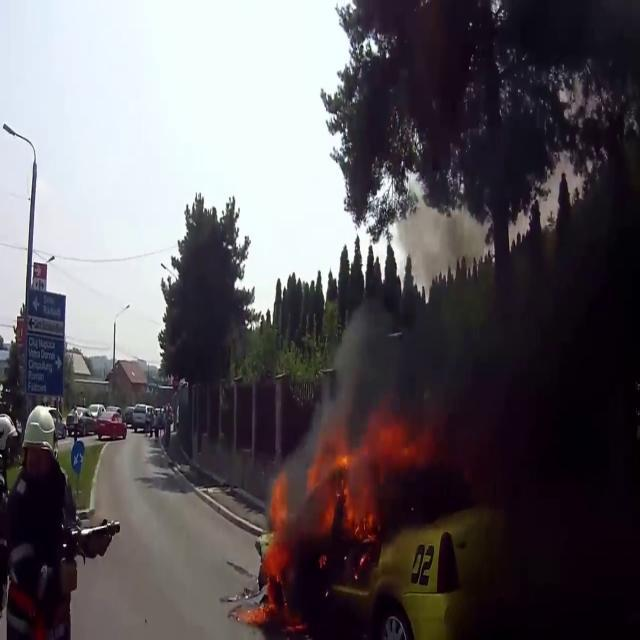Fire: (309, 412, 429, 541), (248, 470, 294, 620)
Smoke: (329, 176, 626, 478)
